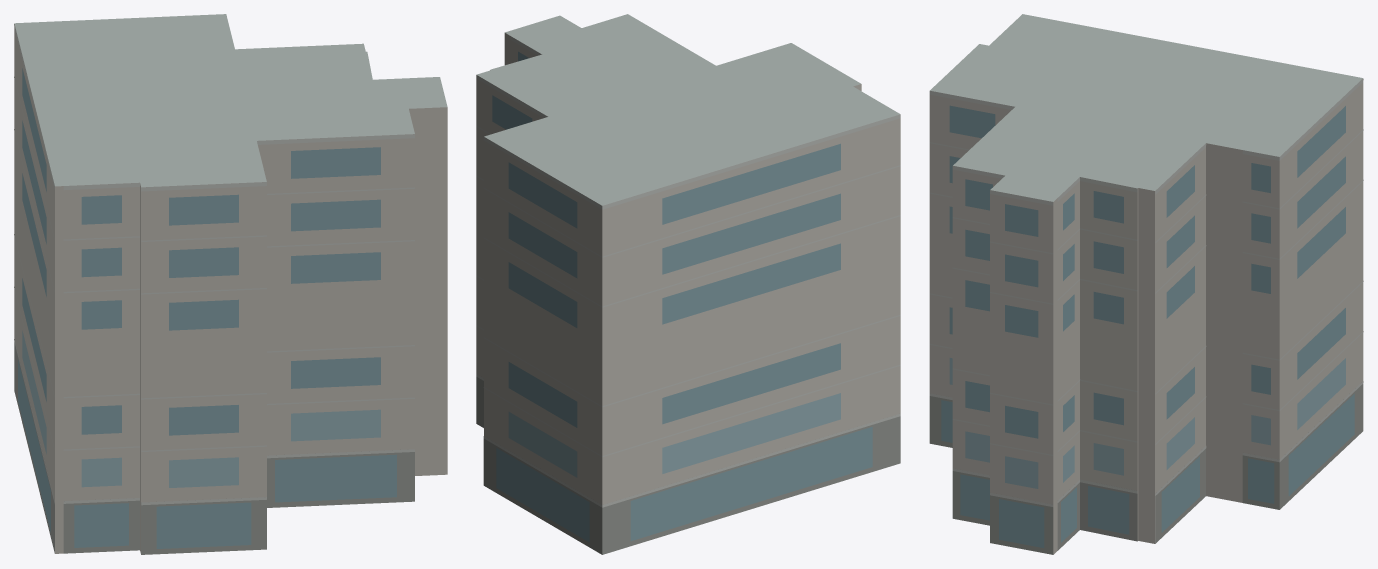
The model's file is survey-upis-32748568.glb.
The picture shows the model from 3 angles, left to right: view 1: azimuth 30°, elevation 25°; view 2: azimuth 150°, elevation 25°; view 3: azimuth 270°, elevation 25°; orthographic projection. The views are drawn at different scales.
Visible parts, largest first — view 1: survey-upis-32748568.tmp; view 2: survey-upis-32748568.tmp; view 3: survey-upis-32748568.tmp.
Part boxes in pixels (bbox=[...]): survey-upis-32748568.tmp: bbox=[14, 14, 447, 554]; survey-upis-32748568.tmp: bbox=[476, 14, 900, 554]; survey-upis-32748568.tmp: bbox=[929, 14, 1363, 554].
Size of the model in its own units: 24.64 by 21.56 by 24.03.
